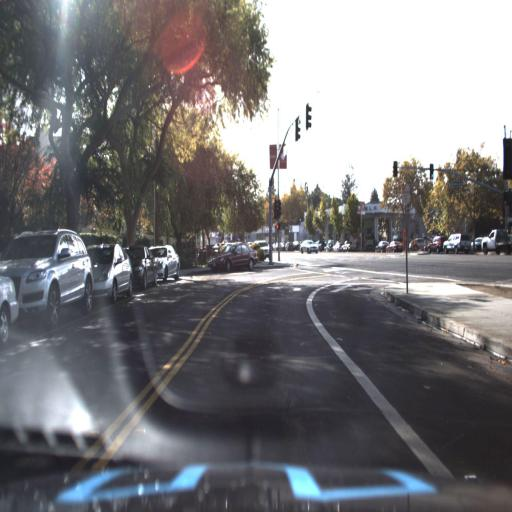car: (15, 223, 93, 335), (87, 237, 132, 307), (204, 235, 263, 280), (0, 268, 18, 346), (153, 241, 183, 286), (131, 243, 155, 296), (441, 227, 474, 256), (423, 235, 448, 257), (295, 238, 319, 257), (252, 236, 271, 259), (469, 235, 487, 251)
